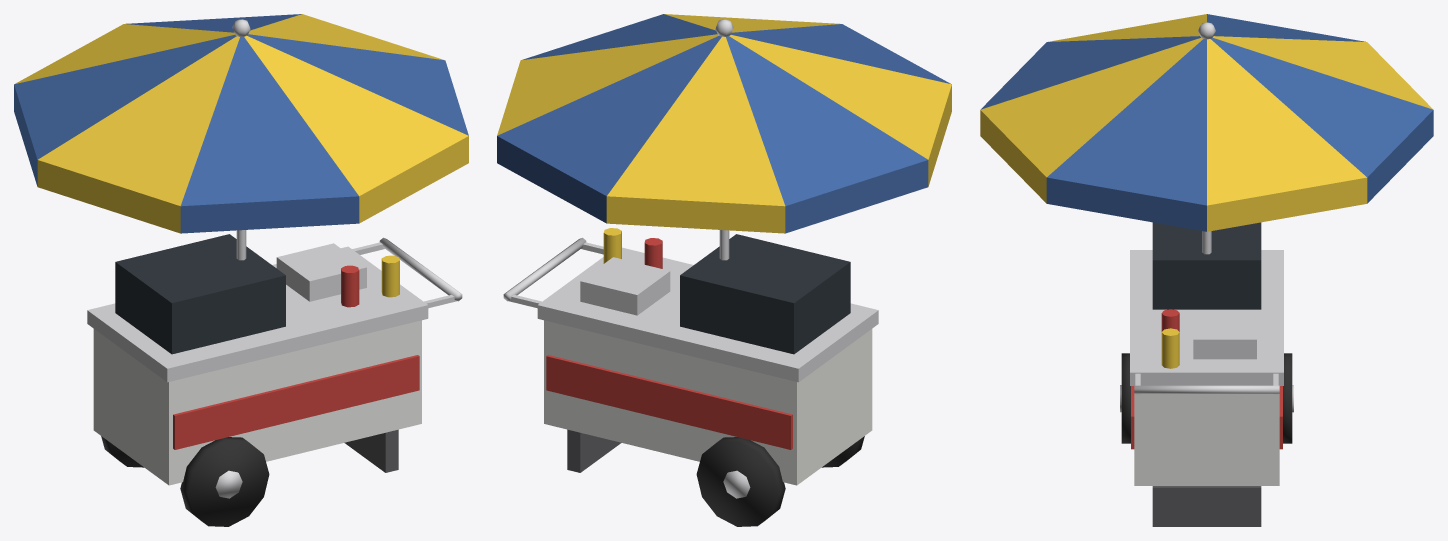
File: VendorCart.glb
3 renders of one model, left to right at view 1: azimuth 30°, elevation 25°; view 2: azimuth 150°, elevation 25°; view 3: azimuth 270°, elevation 25°, orthographic. The views are drawn at different scales.
Visible parts, largest first — view 1: VendorCart_cube.010, VendorCart_umb5, VendorCart_cube.013, VendorCart_umb4, VendorCart_umb6, VendorCart_cube.009, VendorCart_umb3, VendorCart_cube.011, VendorCart_umb7, VendorCart_cyl.010, VendorCart_fl5, VendorCart_umb2 (+11 smaller); view 2: VendorCart_cube.010, VendorCart_umb2, VendorCart_cube.013, VendorCart_umb3, VendorCart_umb1, VendorCart_cube.009, VendorCart_umb4, VendorCart_cube.012, VendorCart_umb0, VendorCart_cyl.012, VendorCart_fl2, VendorCart_umb5 (+11 smaller); view 3: VendorCart_umb0, VendorCart_umb7, VendorCart_cube.010, VendorCart_cube.009, VendorCart_umb1, VendorCart_umb6, VendorCart_cube.013, VendorCart_umb2, VendorCart_umb5, VendorCart_cube.015, VendorCart_fl0, VendorCart_fl7 (+9 smaller).
Part boxes in pixels (x1,y1,x2,y2): VendorCart_cube.010: (93, 320, 421, 485); VendorCart_umb5: (180, 36, 358, 206); VendorCart_cube.013: (115, 234, 285, 354); VendorCart_umb4: (38, 36, 239, 205); VendorCart_umb6: (244, 35, 468, 196); VendorCart_cube.009: (87, 246, 428, 382); VendorCart_umb3: (14, 35, 236, 159); VendorCart_cube.011: (173, 355, 419, 449); VendorCart_umb7: (247, 34, 468, 135); VendorCart_cyl.010: (180, 437, 269, 526); VendorCart_fl5: (180, 196, 359, 233); VendorCart_umb2: (14, 24, 234, 84); VendorCart_cube.010: (544, 320, 872, 485); VendorCart_umb2: (607, 36, 785, 206); VendorCart_cube.013: (680, 234, 850, 354); VendorCart_umb3: (726, 36, 927, 205); VendorCart_umb1: (497, 35, 721, 196); VendorCart_cube.009: (537, 247, 878, 382); VendorCart_umb4: (729, 35, 951, 159); VendorCart_cube.012: (546, 355, 792, 449); VendorCart_umb0: (497, 34, 718, 135); VendorCart_cyl.012: (696, 437, 785, 526); VendorCart_fl2: (606, 196, 785, 233); VendorCart_umb5: (731, 24, 951, 84); VendorCart_umb0: (1207, 39, 1366, 205); VendorCart_umb7: (1047, 39, 1206, 205); VendorCart_cube.010: (1134, 393, 1279, 485); VendorCart_cube.009: (1130, 250, 1283, 385); VendorCart_umb1: (1210, 37, 1433, 177); VendorCart_umb6: (980, 37, 1203, 177); VendorCart_cube.013: (1152, 222, 1261, 309); VendorCart_umb2: (1213, 36, 1432, 109); VendorCart_umb5: (981, 36, 1200, 109); VendorCart_cube.015: (1152, 486, 1261, 526); VendorCart_fl0: (1207, 177, 1367, 231); VendorCart_fl7: (1046, 177, 1206, 231).
Bounding box in the file's own units: 2.5 × 2.7 × 2.5.
